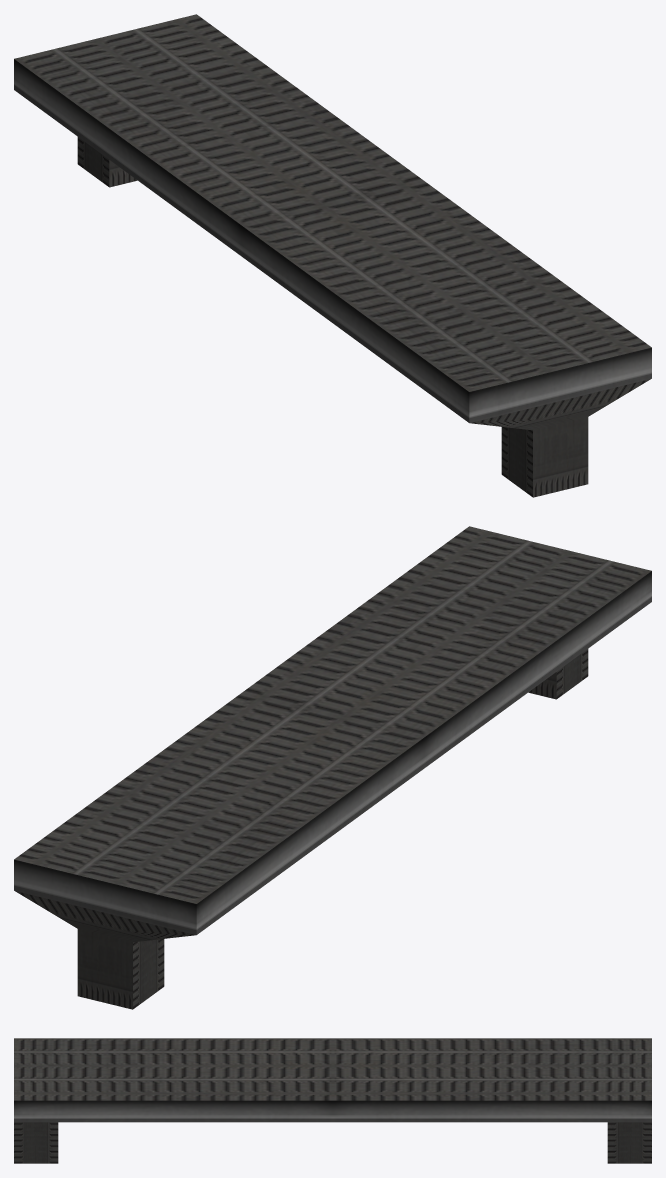
The model's file is banco-mesa.fbx.
3 views of the same model, one above another, from view 1: azimuth 30°, elevation 25°; view 2: azimuth 150°, elevation 25°; view 3: azimuth 270°, elevation 25° (orthographic). The views are drawn at different scales.
Visible parts, largest first — view 1: Cylinder.001; view 2: Cylinder.001; view 3: Cylinder.001.
Boxes of the visible parts, x1=… form: Cylinder.001: x1=14, y1=14, x2=651, y2=497; Cylinder.001: x1=14, y1=526, x2=651, y2=1009; Cylinder.001: x1=14, y1=1038, x2=651, y2=1163.
Size of the model in its own units: 0.6407 by 0.406 by 2.77.
